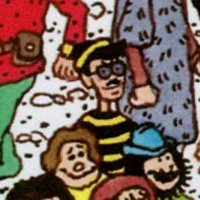odlaw: (82, 41, 124, 98)
